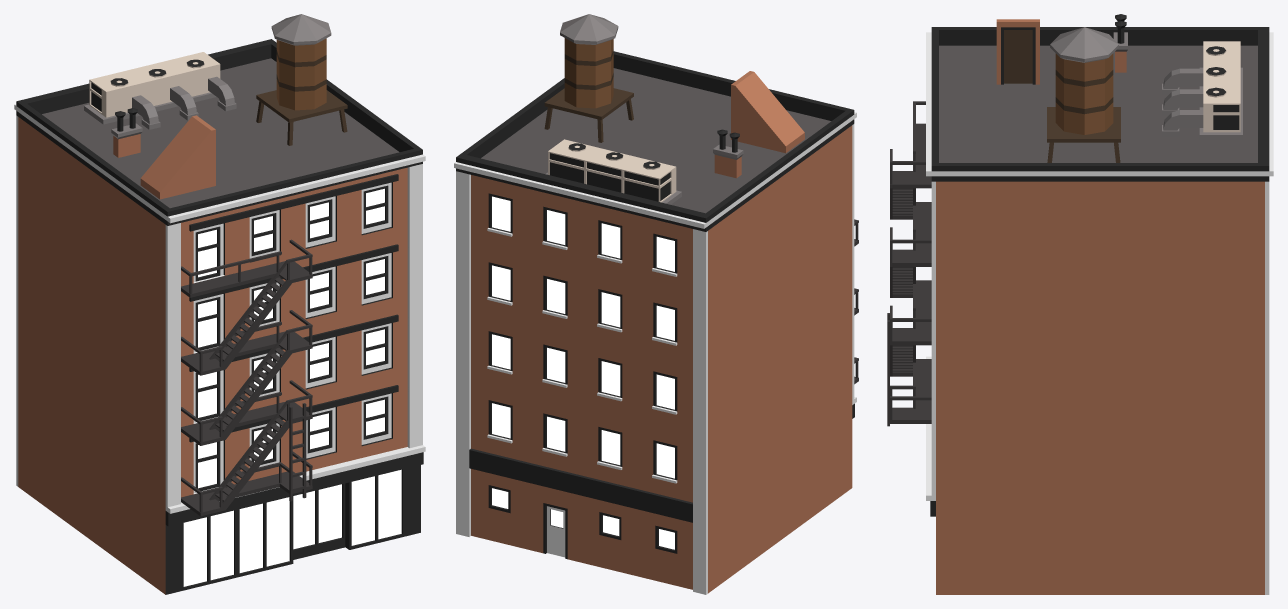
The model's file is buildings-building-block-4floor-front.glb.
3 renders of one model, left to right at view 1: azimuth 30°, elevation 25°; view 2: azimuth 150°, elevation 25°; view 3: azimuth 270°, elevation 25°, orthographic. The views are drawn at different scales.
Parts seen in each view (by area): view 1: building-block-4floor-front; view 2: building-block-4floor-front; view 3: building-block-4floor-front.
Boxes of the visible parts, box(x1,y1,x2,y2) form: building-block-4floor-front: box(14, 14, 425, 594); building-block-4floor-front: box(454, 14, 858, 594); building-block-4floor-front: box(887, 14, 1273, 594).
Size of the model in its own units: 11.4 by 20.61 by 13.4.
